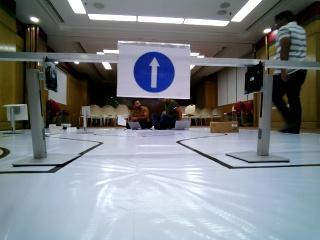straight: (118, 42, 188, 99)
